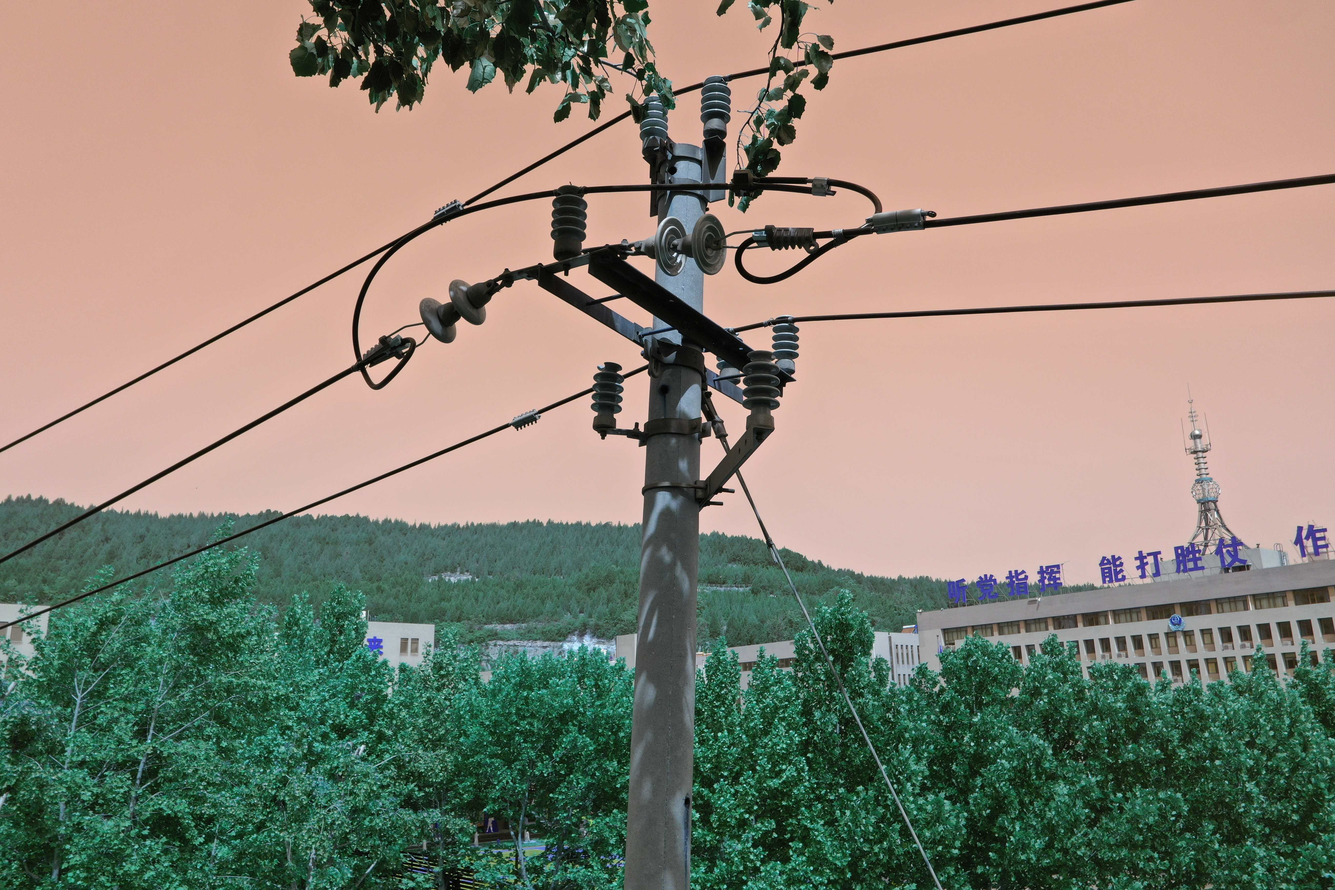severe_soiling_no_discharge_whole: (419, 275, 499, 346), (872, 206, 927, 235), (510, 407, 541, 432), (431, 199, 463, 220), (810, 175, 831, 198)
